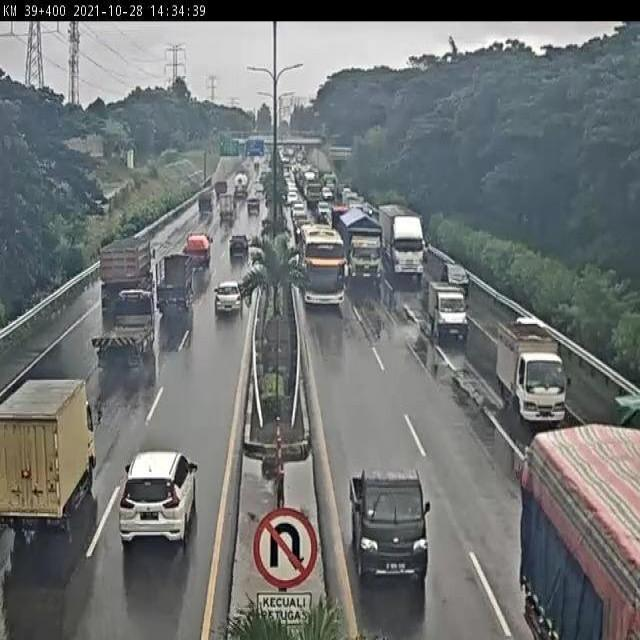big bus: (298, 222, 347, 310)
big truck: (93, 284, 158, 357), (99, 234, 155, 310), (378, 201, 426, 280), (337, 208, 383, 283)
car: (347, 464, 435, 585), (119, 451, 202, 548), (425, 277, 471, 343), (442, 257, 474, 295), (214, 278, 244, 318), (228, 233, 250, 260)
small truck: (0, 375, 96, 536), (495, 316, 567, 425), (154, 253, 199, 316), (183, 231, 214, 269)
